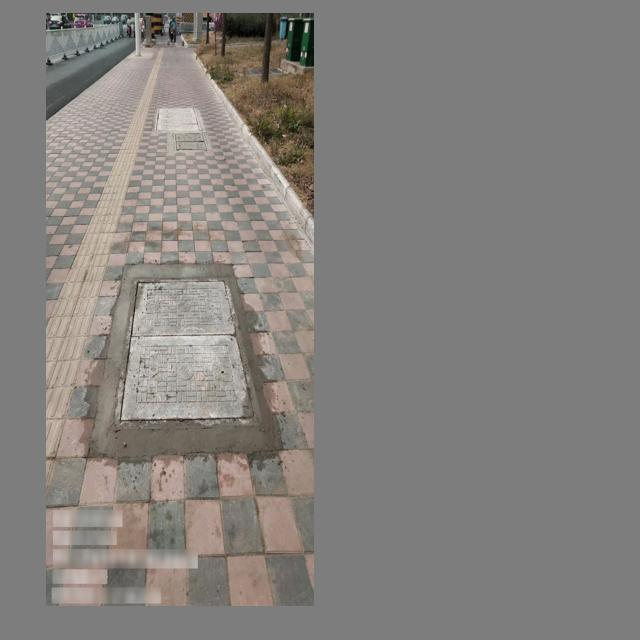good: (110, 277, 262, 428)
